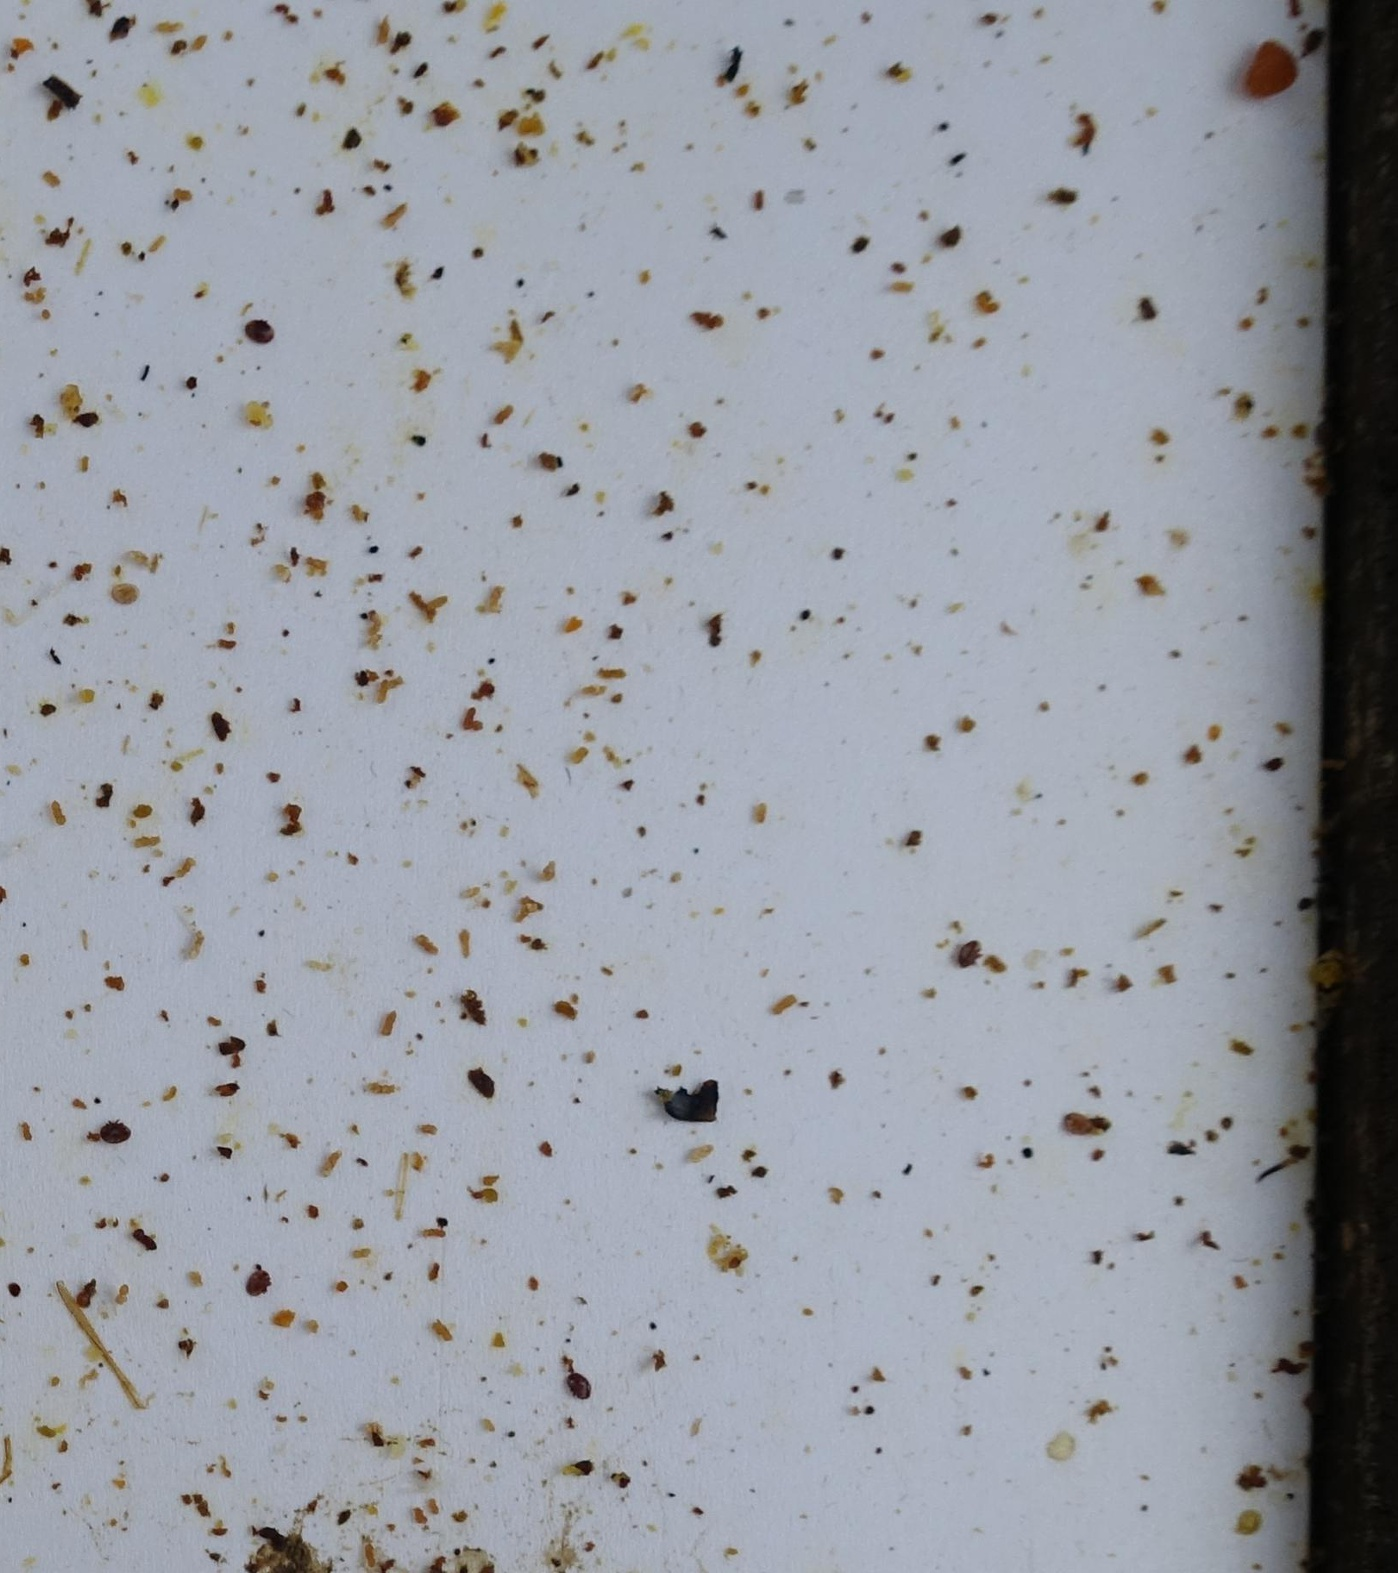Varroa: (100, 1116, 132, 1149), (953, 940, 982, 971), (243, 1265, 273, 1296), (565, 1371, 594, 1402), (246, 317, 275, 345)
